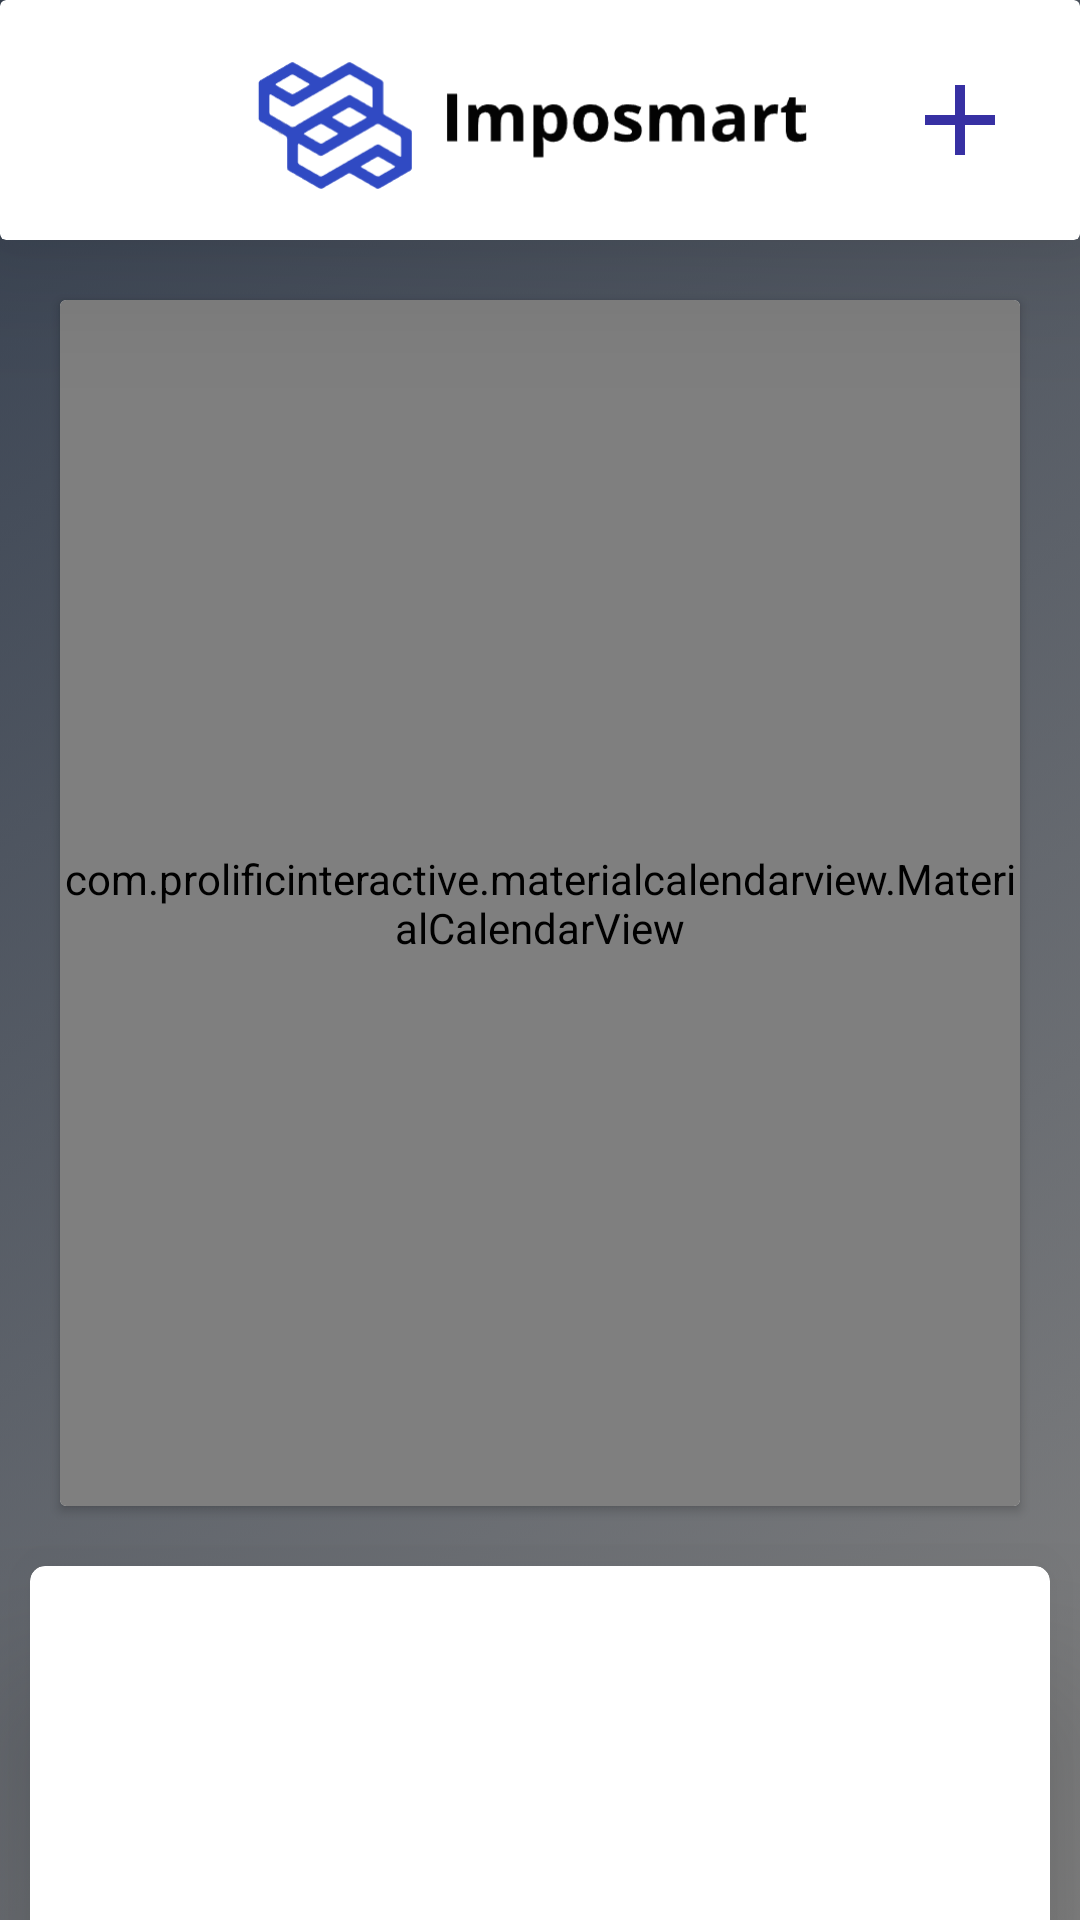

Named icons in this screenshot (1080 x 1920) and their centers, point (x, y):
add: point (960, 120)
